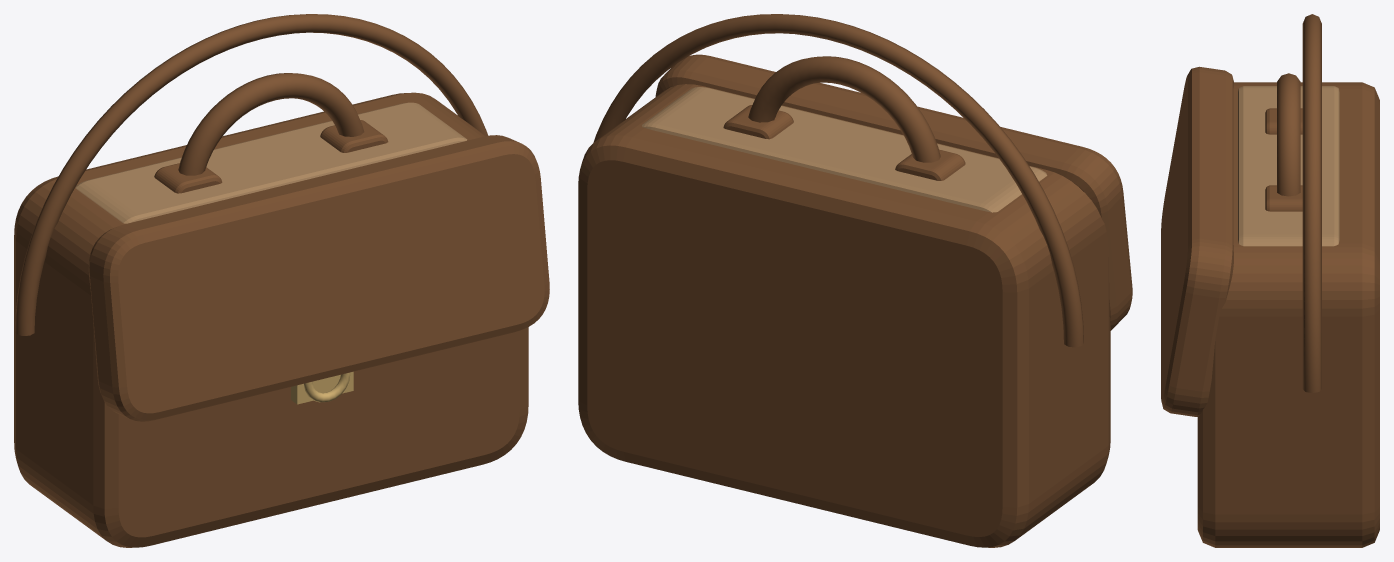
The model's file is ruda-sample-handbag.glb.
3 views of the same model, side by side, from view 1: azimuth 30°, elevation 25°; view 2: azimuth 150°, elevation 25°; view 3: azimuth 270°, elevation 25° (orthographic). The views are drawn at different scales.
Parts seen in each view (by area): view 1: Bag_Flap, Bag_Body, Bag_Lining, Bag_ShoulderStrap, Bag_Handle, Bag_HandleAnchor_L, Bag_HandleAnchor_R, Hardware_BucklePlate; view 2: Bag_Body, Bag_Lining, Bag_Flap, Bag_ShoulderStrap, Bag_Handle, Bag_HandleAnchor_L, Bag_HandleAnchor_R; view 3: Bag_Body, Bag_Flap, Bag_Lining, Bag_ShoulderStrap, Bag_Handle, Bag_HandleAnchor_R, Bag_HandleAnchor_L.
Part boxes in pixels (x1,y1,x2,y2): Bag_Flap: (88, 135, 549, 421); Bag_Body: (14, 92, 528, 547); Bag_Lining: (75, 102, 467, 223); Bag_ShoulderStrap: (15, 14, 488, 335); Bag_Handle: (178, 73, 364, 175); Bag_HandleAnchor_L: (154, 163, 222, 193); Bag_HandleAnchor_R: (320, 120, 388, 152); Hardware_BucklePlate: (291, 371, 353, 404); Bag_Body: (578, 84, 1110, 547); Bag_Lining: (641, 87, 1047, 212); Bag_Flap: (655, 54, 1132, 330); Bag_ShoulderStrap: (593, 14, 1083, 347); Bag_Handle: (748, 56, 940, 162); Bag_HandleAnchor_L: (895, 149, 965, 180); Bag_HandleAnchor_R: (723, 105, 793, 139); Bag_Body: (1197, 82, 1379, 547); Bag_Flap: (1161, 66, 1233, 416); Bag_Lining: (1238, 86, 1339, 246); Bag_ShoulderStrap: (1302, 14, 1321, 392); Bag_Handle: (1277, 73, 1300, 196); Bag_HandleAnchor_R: (1265, 185, 1302, 211); Bag_HandleAnchor_L: (1265, 108, 1302, 134).
Bounding box in the file's own units: 0.363 × 0.3235 × 0.149.
